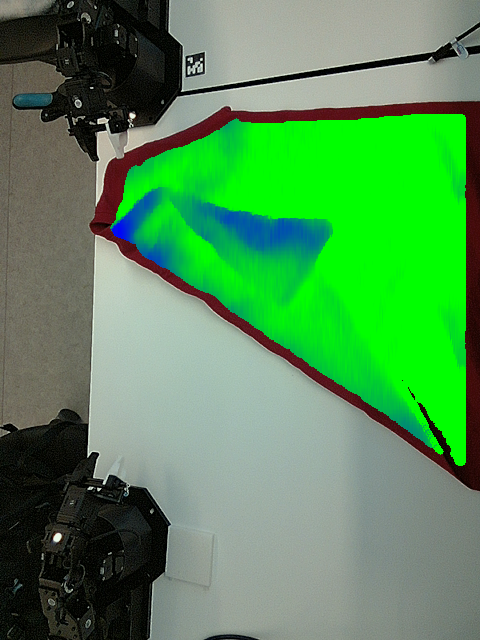V: (257, 269, 316, 323)
